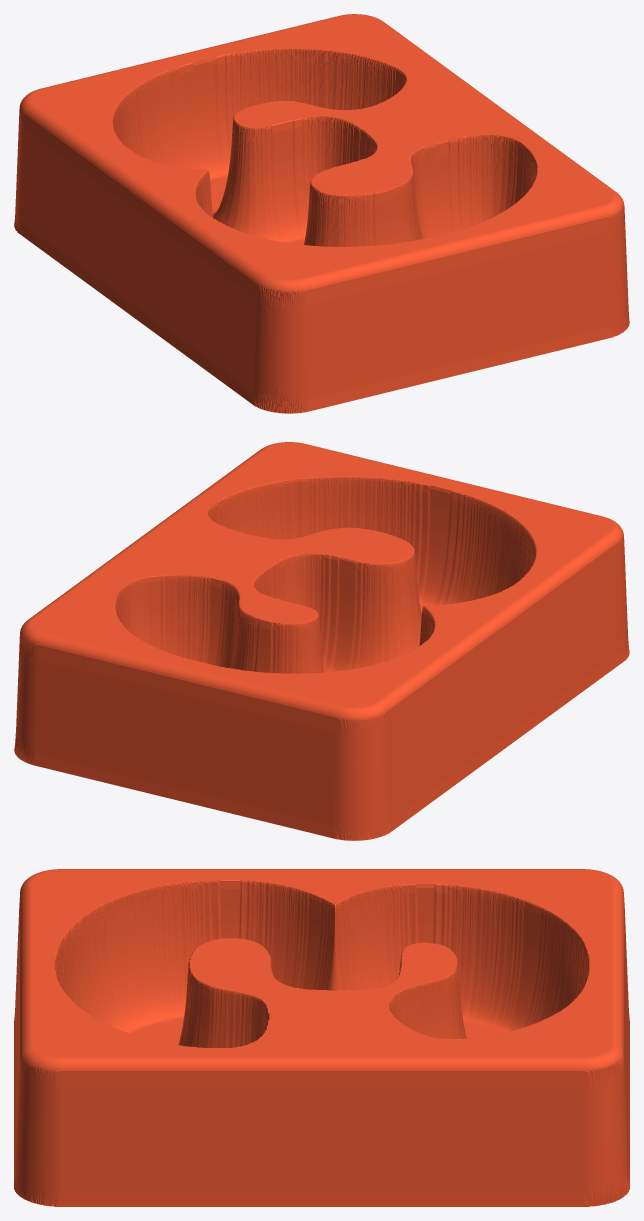
The model's file is mold.glb.
The picture shows the model from 3 angles, top to bottom: view 1: azimuth 30°, elevation 25°; view 2: azimuth 150°, elevation 25°; view 3: azimuth 270°, elevation 25°; orthographic projection. The views are drawn at different scales.
Parts seen in each view (by area): view 1: geometry_0; view 2: geometry_0; view 3: geometry_0.
Part boxes in pixels (x1,y1,x2,y2): geometry_0: (14,14,629,413); geometry_0: (14,442,629,840); geometry_0: (14,869,629,1206).
Bounding box in the file's own units: 0.0918 × 0.0299 × 0.1178.
